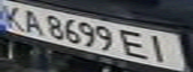6: (60, 17, 81, 45)
8: (39, 12, 66, 41)
9: (93, 23, 118, 53), (78, 20, 96, 48)
A: (18, 7, 48, 35)
E: (118, 28, 154, 60)
I: (142, 33, 181, 65)
K: (0, 2, 30, 29)
